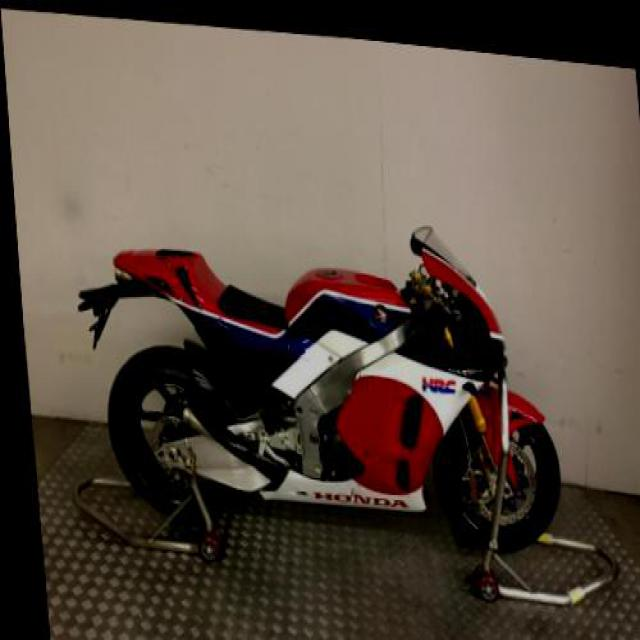HRC RCV 213: (72, 180, 564, 556)
